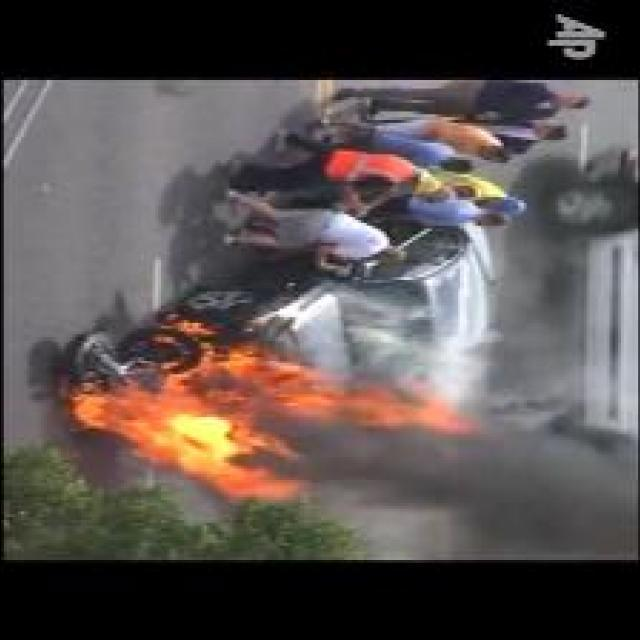Fire: (73, 338, 476, 502)
